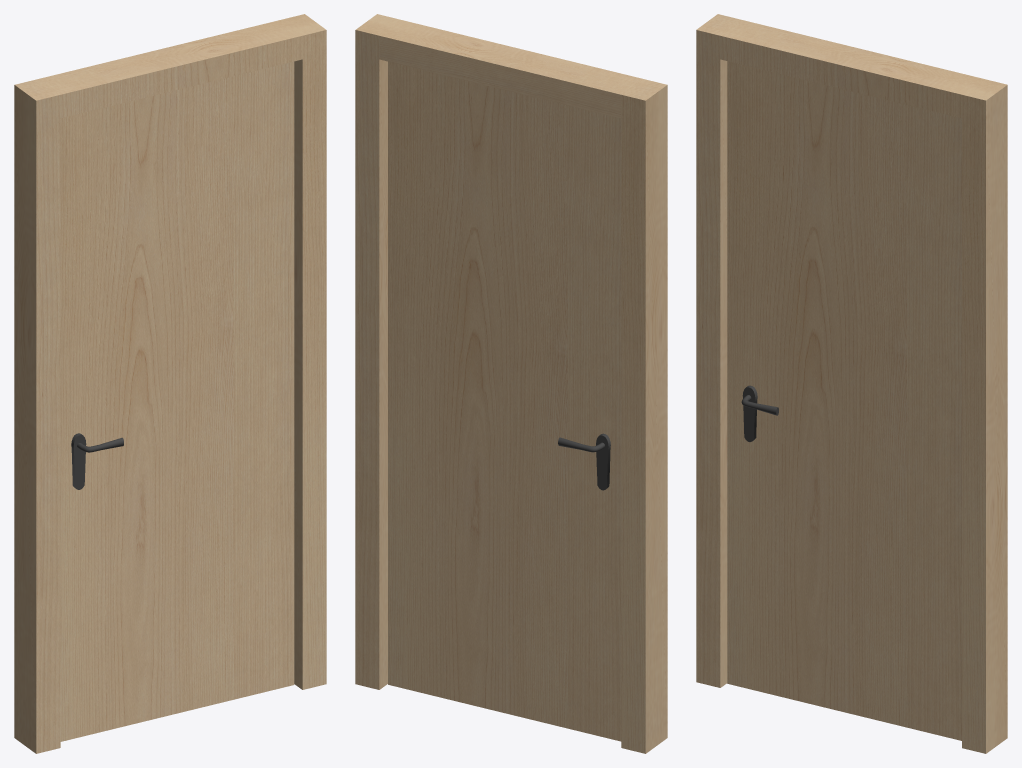
File: Door.FBX
3 renders of one model, left to right at view 1: azimuth 30°, elevation 25°; view 2: azimuth 150°, elevation 25°; view 3: azimuth 330°, elevation 25°, orthographic.
Visible parts, largest first — view 1: Door, door frame; view 2: Door, door frame; view 3: Door, door frame.
Boxes of the visible parts, left/top/right/bottom form: Door: left=60, top=61, right=294, bottom=741; door frame: left=14, top=14, right=326, bottom=753; Door: left=388, top=61, right=621, bottom=741; door frame: left=355, top=14, right=667, bottom=753; Door: left=727, top=61, right=961, bottom=740; door frame: left=696, top=14, right=1007, bottom=753.
Size of the model in its own units: 966 by 2080 by 168.
